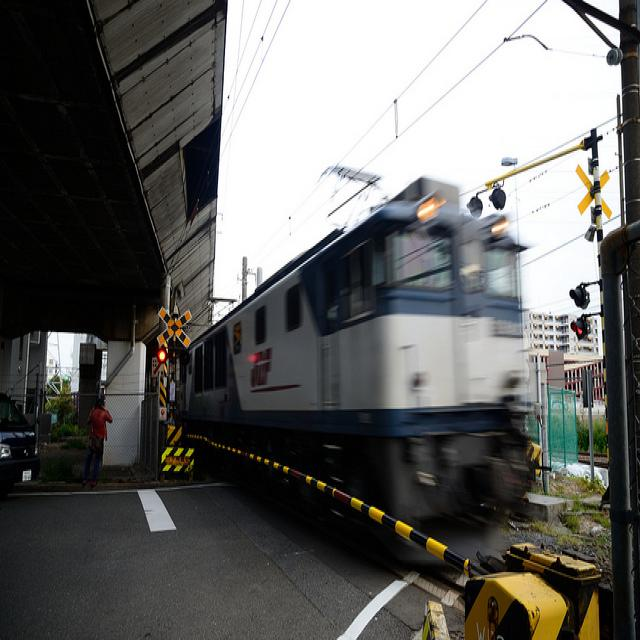Vehicle: (0, 392, 41, 499)
